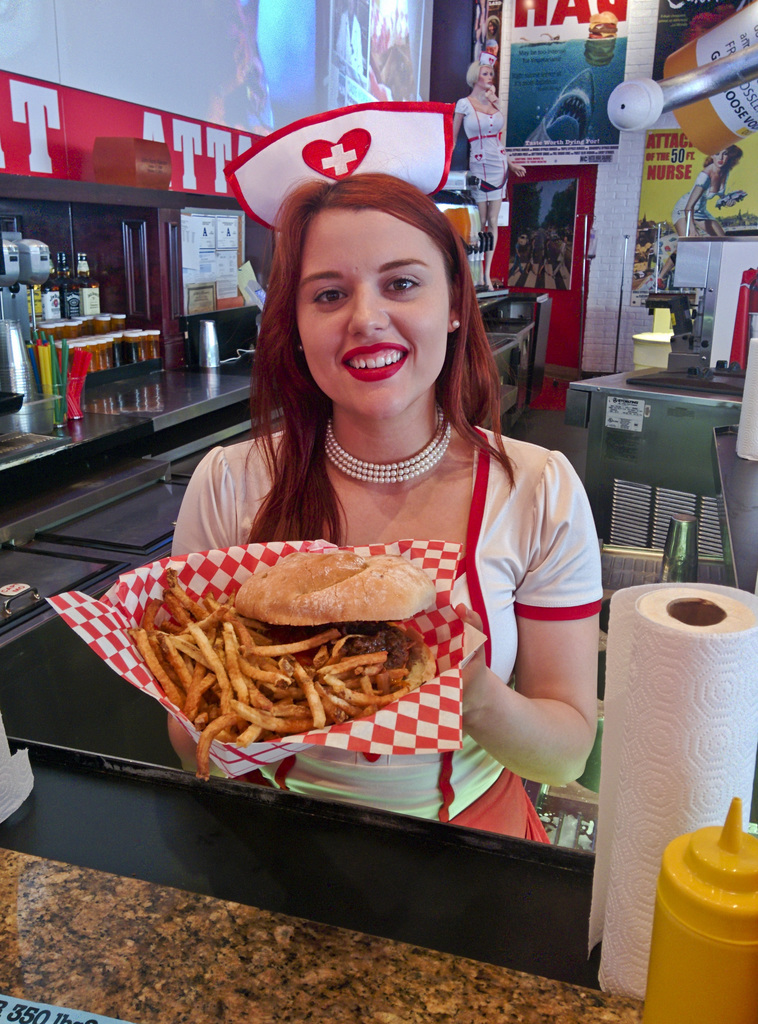French fries: (112, 556, 459, 737)
